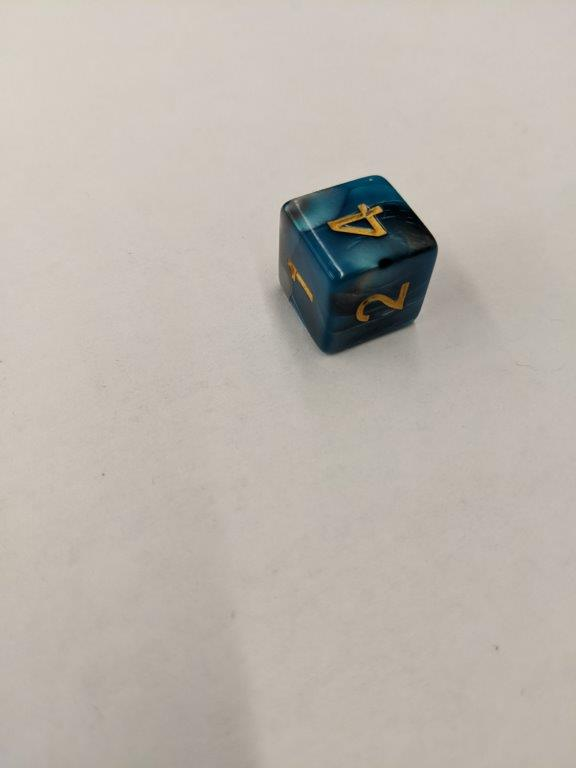d6-4: (277, 173, 440, 361)
